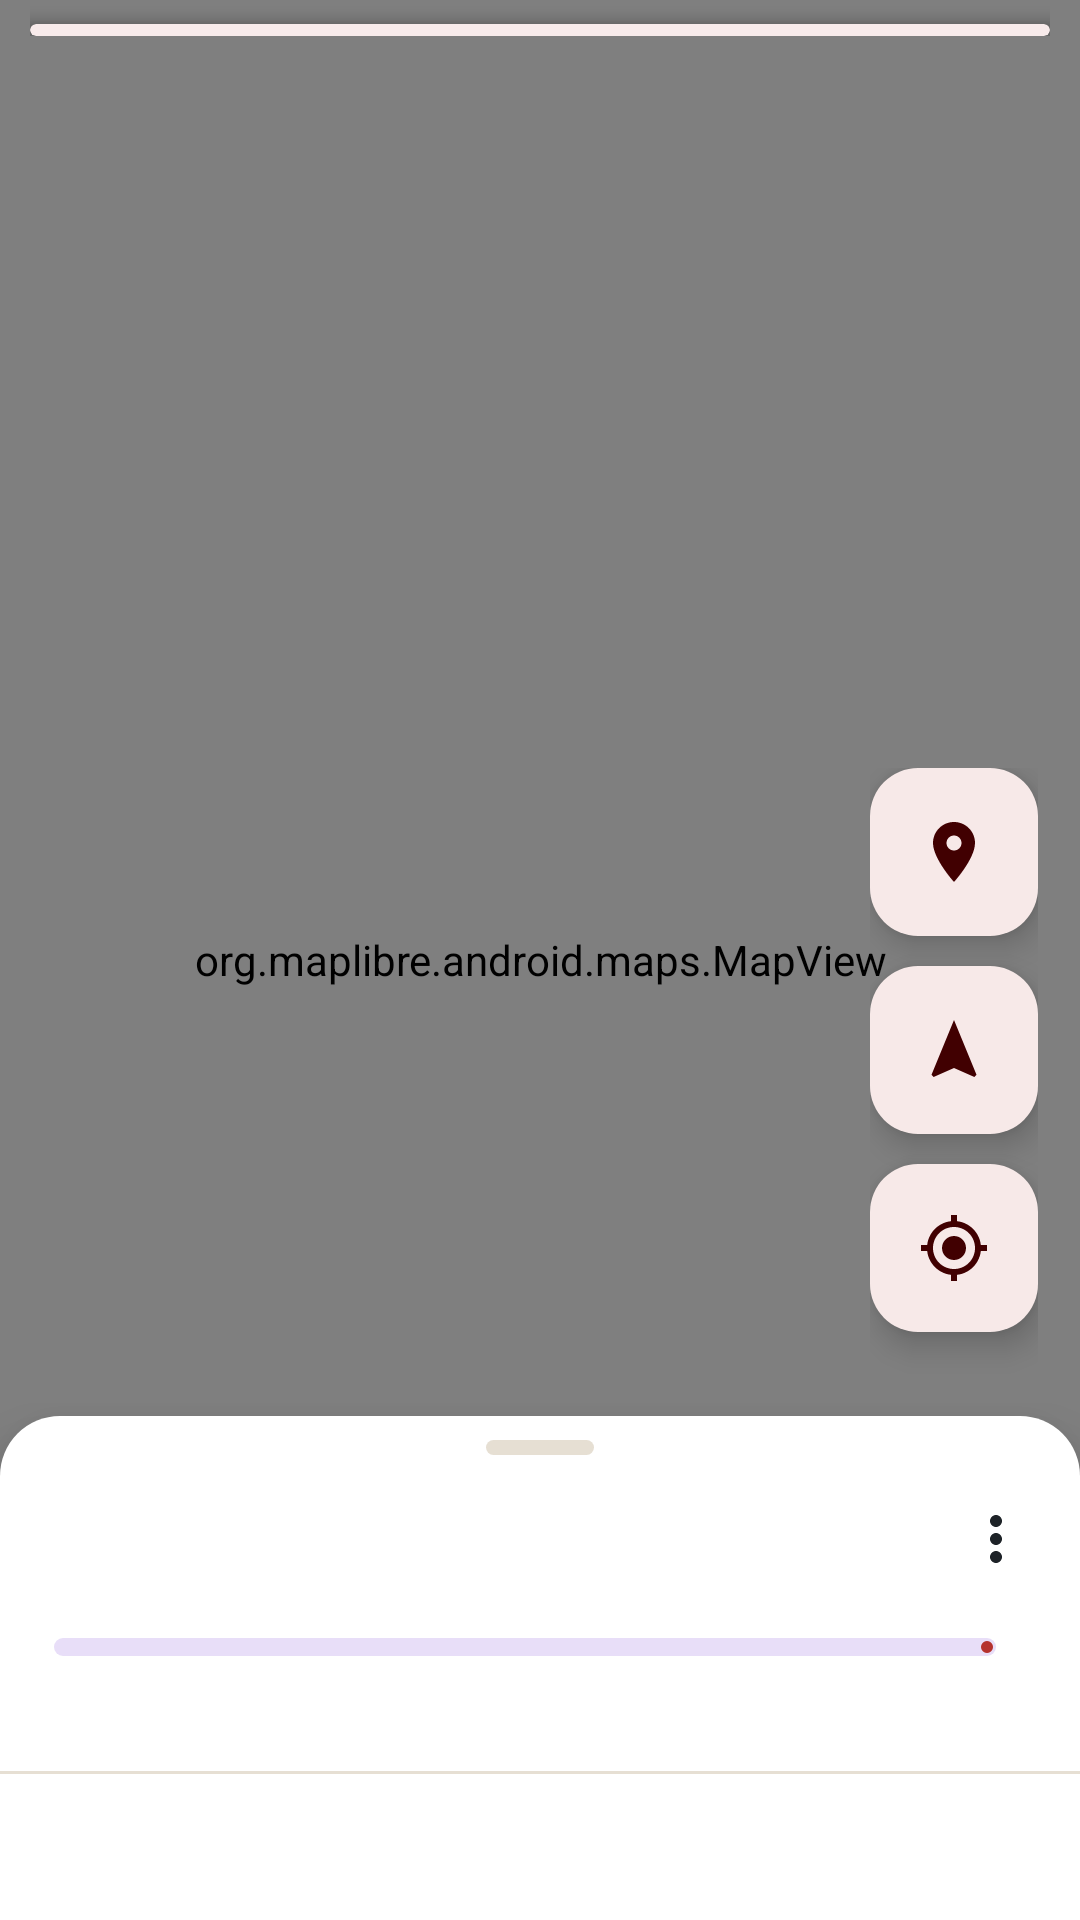

Locate icon controls on the screen. Image size 1080px x 1920px, boxes as (x1, y1, x2, y2).
Autour de moi: (870, 768, 1038, 936)
Ma position: (870, 1164, 1038, 1332)
Options: (990, 1515, 1002, 1563)
Suivre ma position: (870, 966, 1038, 1134)
